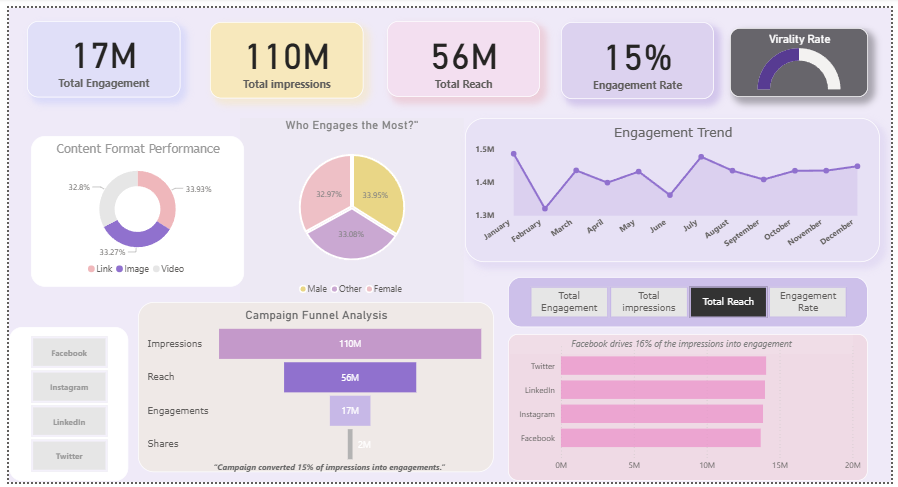

What the dashboard file says about the page in this screenshot:
{"tool":"powerbi","page":{"name":"Page 1","canvas":[1315,708],"ordinal":0},"visuals":[{"type":"card","fields":{"Values":["Measures (2).Total Engagement"]},"box":[26.2,20,229.2,113.8],"z":0},{"type":"card","fields":{"Values":["Measures (2).Total impressions"]},"box":[300,21.5,229.2,113.8],"z":1000},{"type":"card","fields":{"Values":["Measures (2).Total Reach"]},"box":[564.2,19.4,228.4,113.4],"z":2000},{"type":"card","fields":{"Values":["Measures (2).Engagement Rate"]},"box":[823.9,20.9,228.4,114.9],"z":3000},{"type":"gauge","fields":{"Y":["Measures (2).Virality Rate"]},"box":[1076.1,29.9,206,103],"z":4000},{"type":"lineChart","title":"Engagement Trend","fields":{"Category":["Media1.Post Timestamp.Variation.Date Hierarchy.Month"],"Y":["Measures (2).Total Engagement"]},"box":[680.6,164.2,619.4,214.9],"z":5000},{"type":"barChart","fields":{"Y":["Measures (2).Total Reach"],"Category":["Media1.Platform"]},"box":[744.8,486.6,537.3,219.4],"z":6000},{"type":"slicer","fields":{"Values":["Parameter.Parameter"]},"box":[744.8,401.5,537.3,74.6],"z":7000},{"type":"pieChart","title":"Who Engages the Most?\"","fields":{"Category":["Media1.Audience Gender"],"Y":["Measures (2).Total Engagement"]},"box":[344.8,164.2,334.3,274.6],"z":8000},{"type":"funnel","title":"Campaign Funnel Analysis","fields":{"Y":["Measures (2).Funnel Value"],"Category":["Stage.Stages"]},"box":[192.5,438.8,531.3,253.7],"z":9000},{"type":"slicer","fields":{"Values":["Media1.Platform"]},"box":[0,476.1,177.6,229.9],"z":10000},{"type":"textbox","box":[747.8,486.6,511.9,29.9],"z":11000},{"type":"textbox","box":[300,670.1,380.6,37.3],"z":12000},{"type":"donutChart","title":"Content Format Performance","fields":{"Y":["Sum(Media1.Engagement Rate)"],"Category":["Media1.Post Type"]},"box":[32.8,191,317.9,225.4],"z":13000}]}

Visuals, with their boxes in screenshot pixels (x1, y1, x2, y2), scaled from the page's 1315x708 canvas onto the 898x487 screenshot:
card - Measures (2).Total Engagement: 18,14,174,92
card - Measures (2).Total impressions: 205,15,361,93
card - Measures (2).Total Reach: 385,13,541,91
card - Measures (2).Engagement Rate: 563,14,719,93
gauge - Measures (2).Virality Rate: 735,21,876,91
"Engagement Trend" lineChart: 465,113,888,261
barChart - Measures (2).Total Reach x Media1.Platform: 509,335,876,486
slicer - Parameter.Parameter: 509,276,876,327
"Who Engages the Most?"" pieChart: 235,113,464,302
"Campaign Funnel Analysis" funnel: 131,302,494,476
slicer - Media1.Platform: 0,327,121,486
textbox: 511,335,860,355
textbox: 205,461,465,486
"Content Format Performance" donutChart: 22,131,239,286
